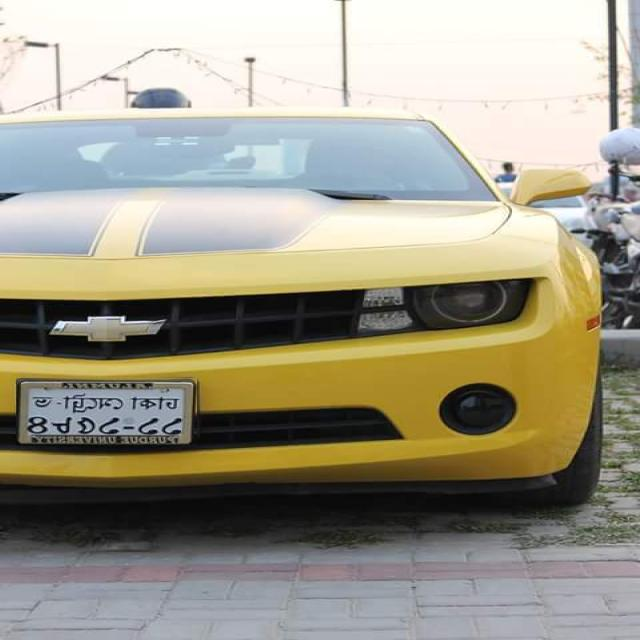numberplate: (16, 378, 197, 446)
